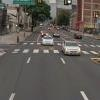Crosswalk: (5, 43, 74, 68)
